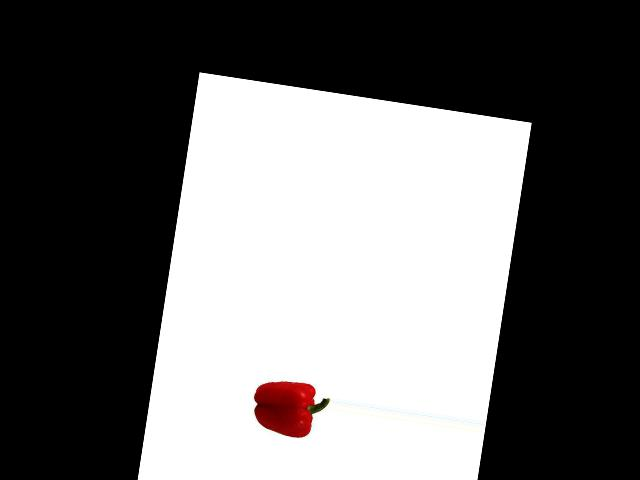bell_pepper: (247, 373, 331, 449)
